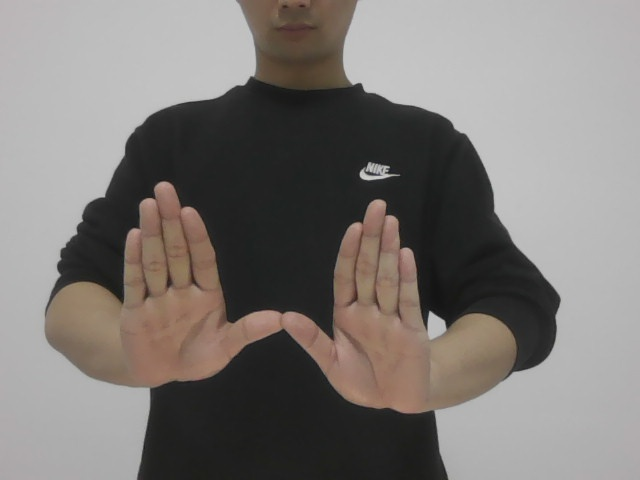door: (110, 179, 445, 424)
